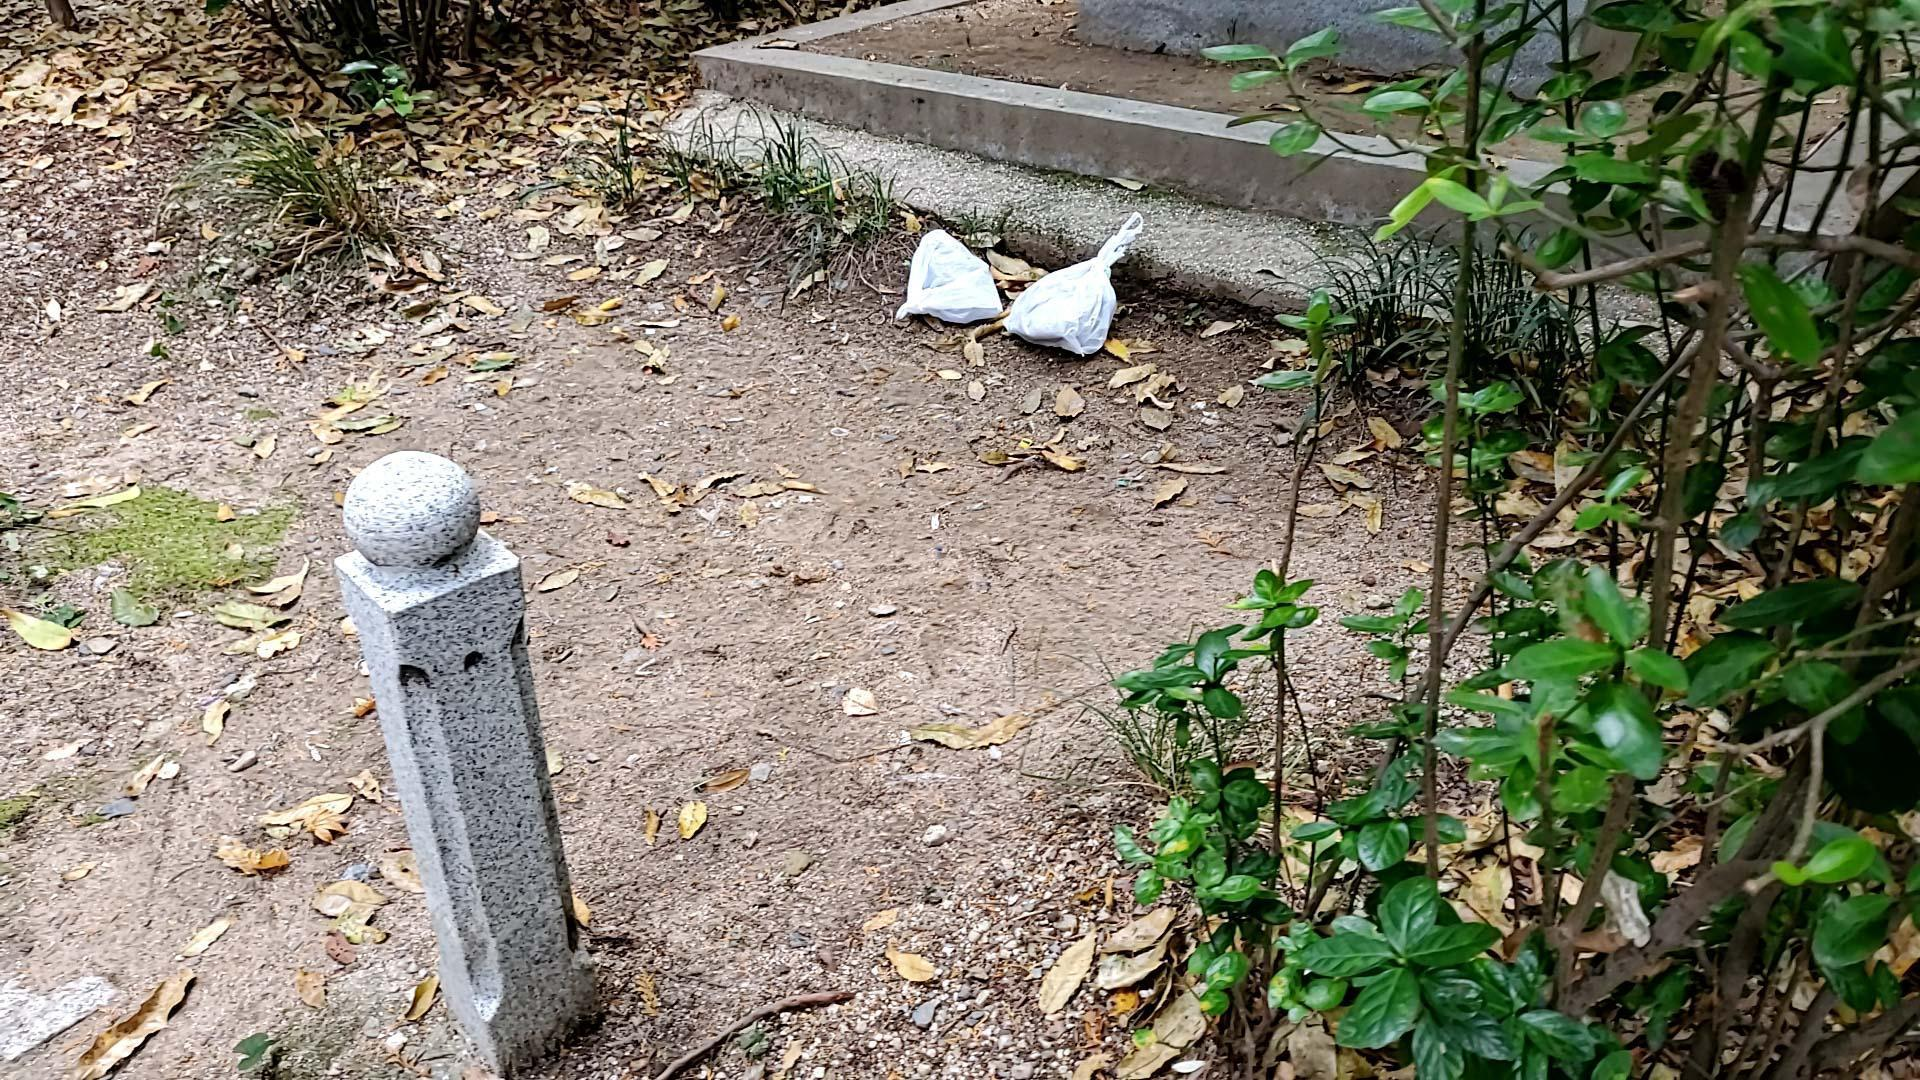white_bag: (989, 198, 1151, 357), (889, 225, 1004, 334)
